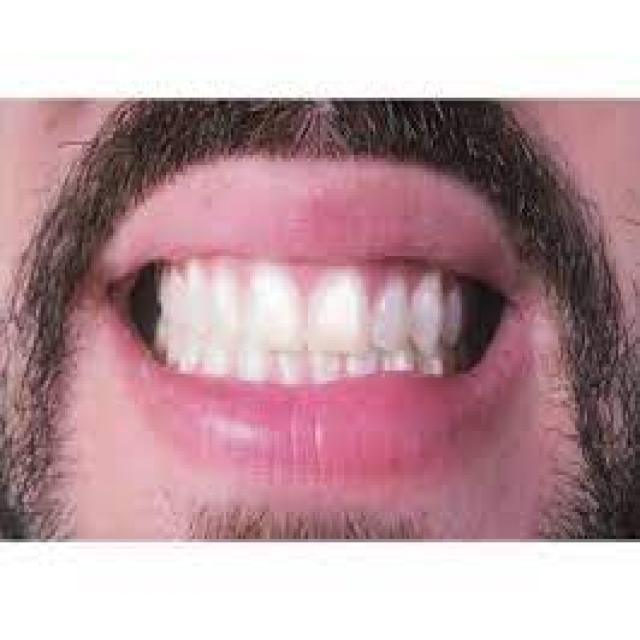tooth: (245, 266, 301, 347), (308, 266, 366, 344), (375, 276, 407, 351), (212, 269, 240, 337), (416, 273, 438, 347), (183, 266, 209, 327), (277, 350, 308, 381), (313, 350, 344, 381), (163, 266, 180, 317), (238, 357, 272, 381), (207, 343, 233, 374), (181, 334, 202, 371), (445, 286, 457, 347), (162, 324, 180, 361), (351, 354, 378, 371), (421, 357, 448, 374), (385, 357, 416, 371)
